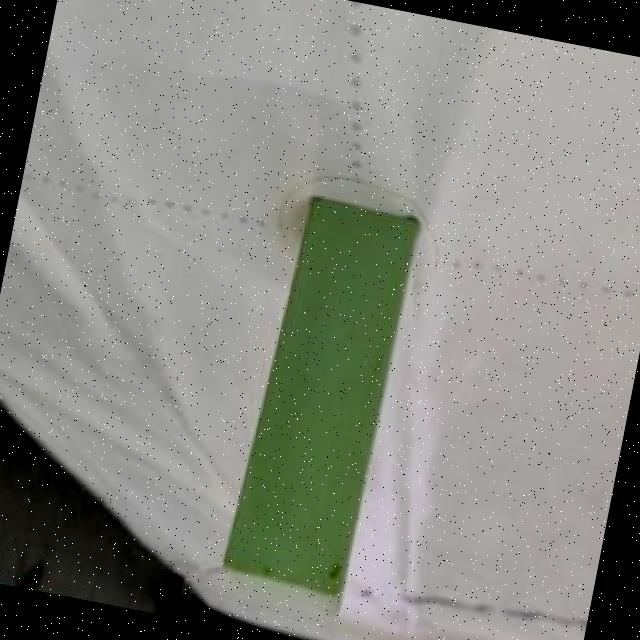greenbox: (214, 191, 418, 624)
